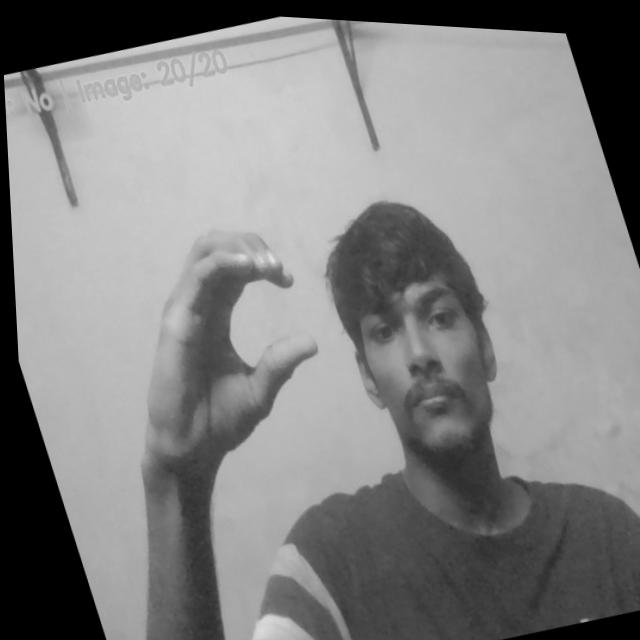No: (104, 206, 346, 476)
